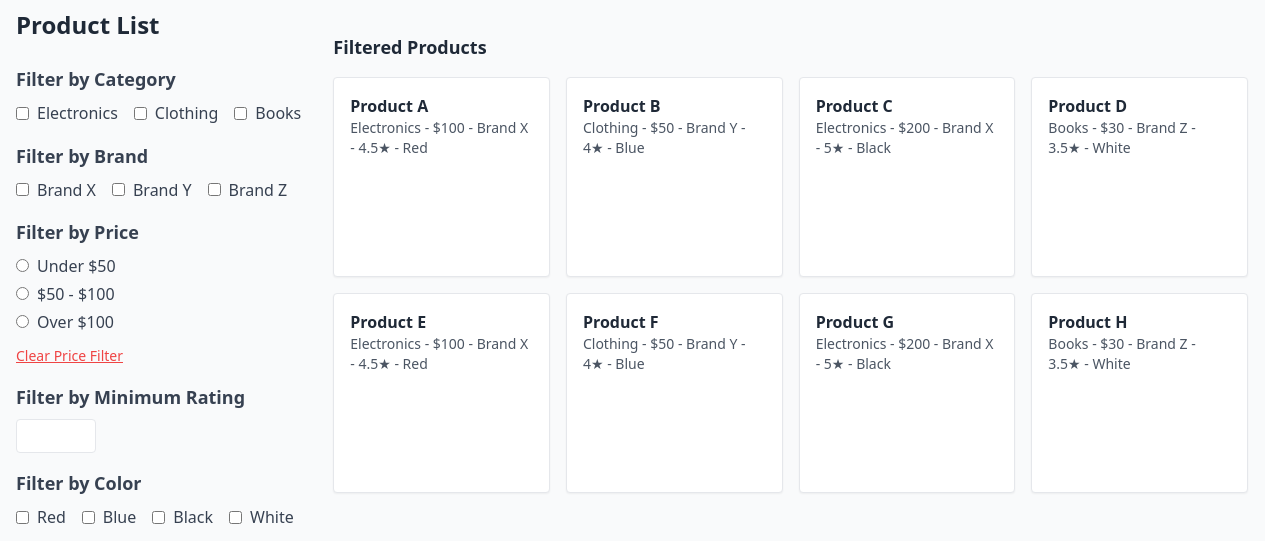
Product Filter › should filter by brand correctly
Click the checkbox labelled "Brand X" at coordinates (22, 190), box top-left (16, 183), bottom-right (29, 196)
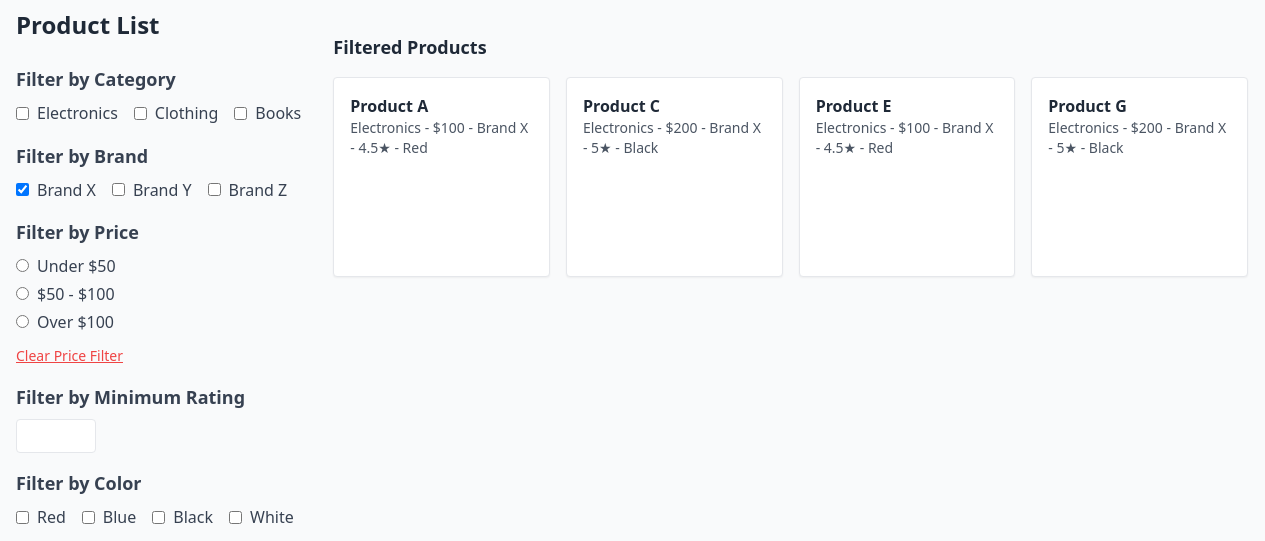
Check: the text "Product A" is shown, box top-left (350, 95), bottom-right (428, 117)
Check: the text "Product B" is gone
Check: the text "Product D" is gone
